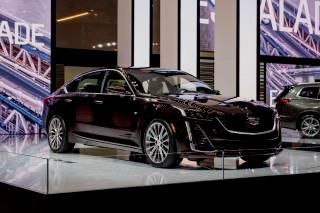cadillac: (245, 114, 264, 127)
